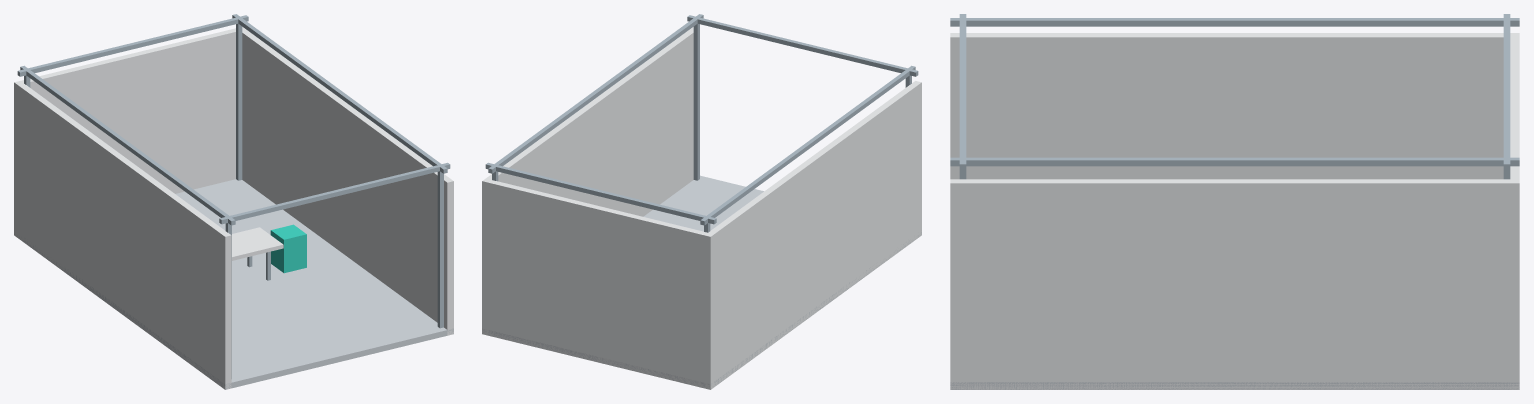
The picture shows the model from 3 angles, left to right: view 1: azimuth 30°, elevation 25°; view 2: azimuth 150°, elevation 25°; view 3: azimuth 270°, elevation 25°; orthographic projection. The views are drawn at different scales.
Parts seen in each view (by area): view 1: Exhibition Booth Concept; view 2: Exhibition Booth Concept; view 3: Exhibition Booth Concept.
Part boxes in pixels (x1,y1,x2,y2): Exhibition Booth Concept: (14,14,453,389); Exhibition Booth Concept: (482,14,921,389); Exhibition Booth Concept: (950,14,1519,389).
Size of the model in its own units: 5 by 3.49 by 8.
